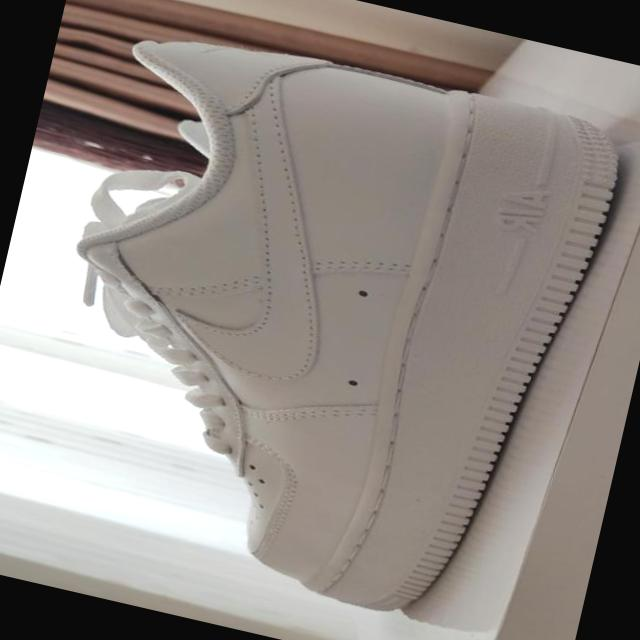nike_original_airforce: (9, 1, 637, 640)
